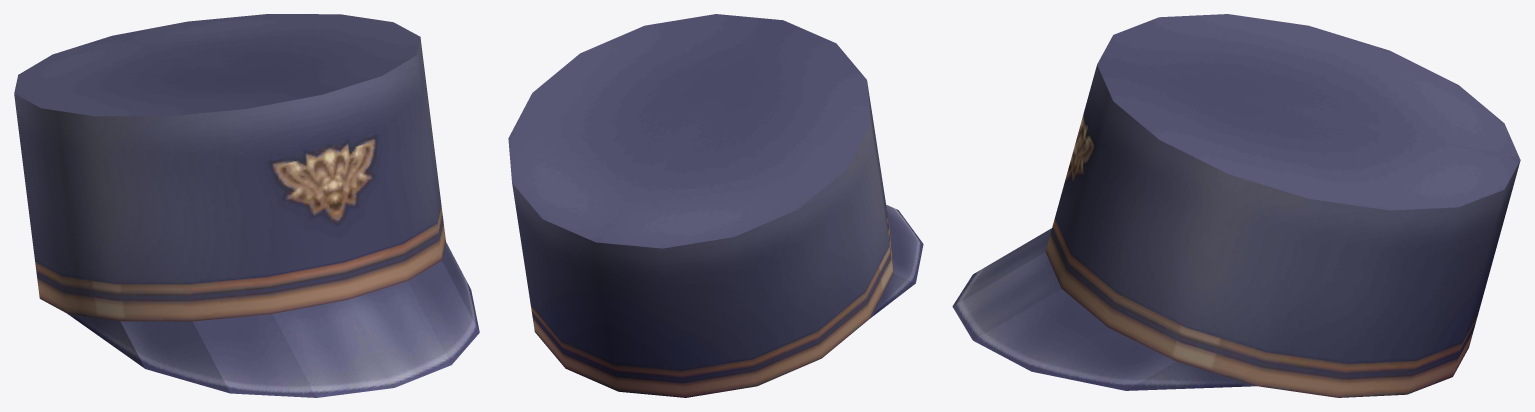
File: helm9052.fbx
3 renders of one model, left to right at view 1: azimuth 30°, elevation 25°; view 2: azimuth 150°, elevation 25°; view 3: azimuth 270°, elevation 25°, orthographic. The views are drawn at different scales.
Parts seen in each view (by area): view 1: helmet_m; view 2: helmet_m; view 3: helmet_m.
Part boxes in pixels (box(x1,y1,x2,y2)): helmet_m: box(14, 14, 479, 397); helmet_m: box(508, 14, 923, 397); helmet_m: box(952, 14, 1520, 397).
Size of the model in its own units: 0.2776 by 0.2117 by 0.3851.
